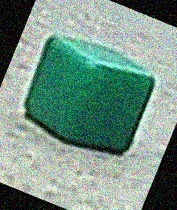green_cube: (24, 30, 157, 161)
